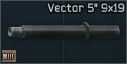KRISS Vector 9x19 5 inch barrel: (0, 0, 127, 64)
